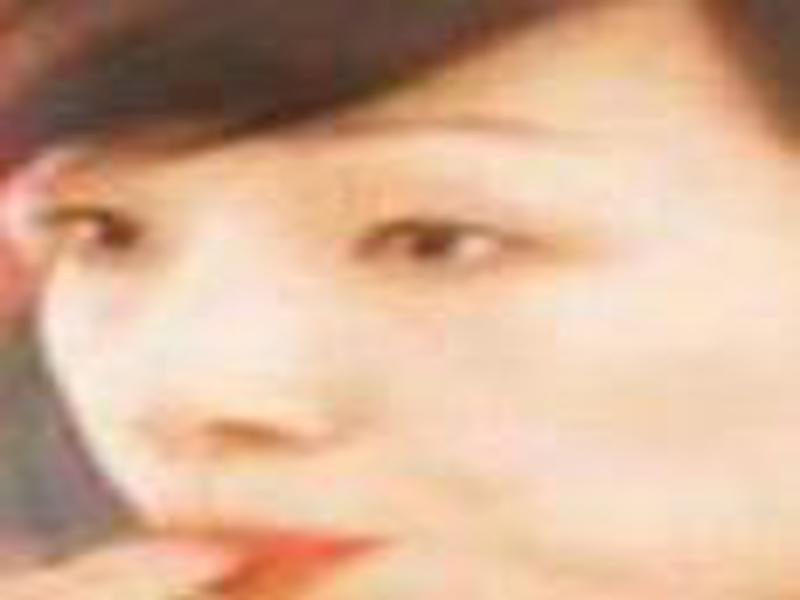without_mask: (34, 85, 798, 600)
